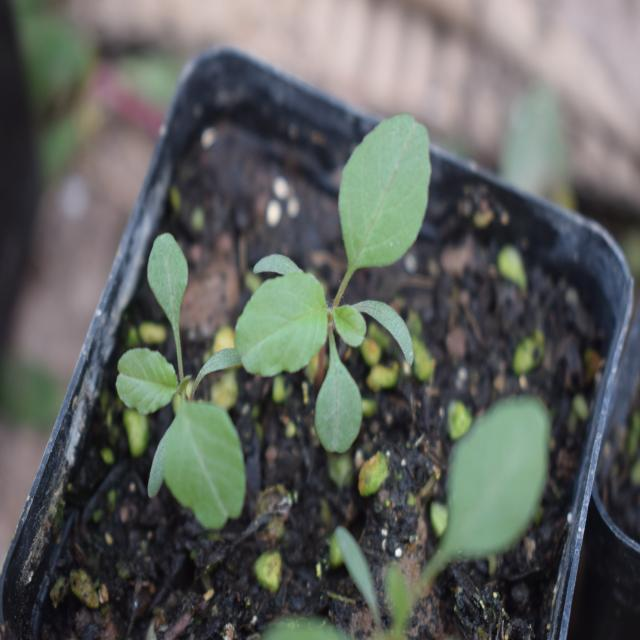pigweed: (242, 113, 454, 435), (117, 236, 259, 529)
